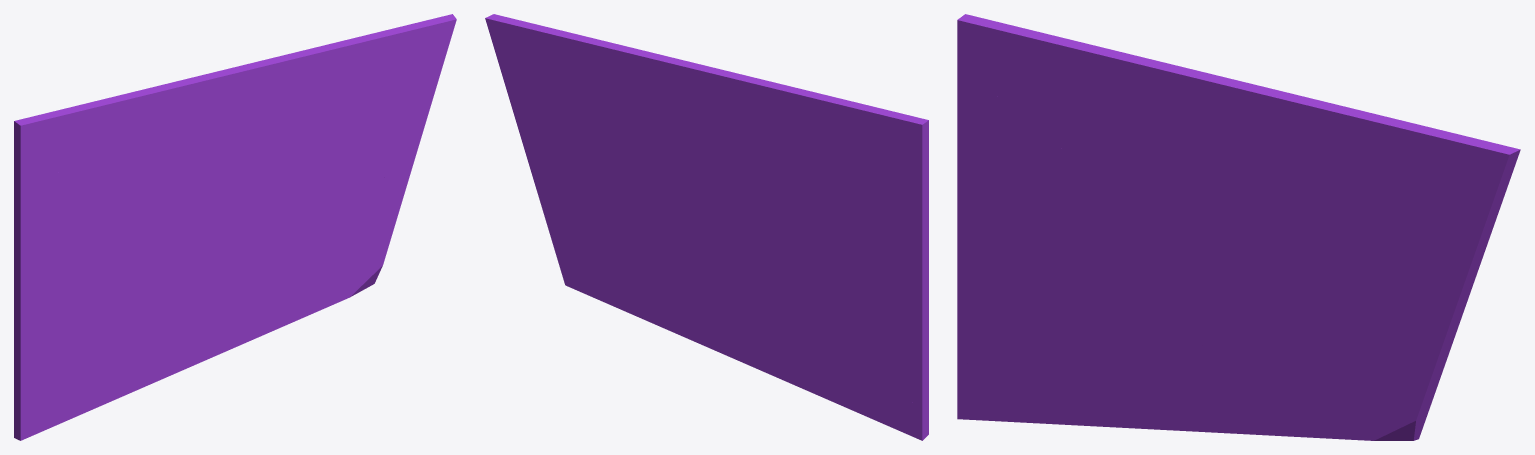
The model's file is Glass_96_3_chunks.fbx.
3 views of the same model, side by side, from view 1: azimuth 30°, elevation 25°; view 2: azimuth 150°, elevation 25°; view 3: azimuth 330°, elevation 25° (orthographic). The views are drawn at different scales.
Visible parts, largest first — view 1: Glass_96_3_5, Glass_96_3_1, Glass_96_3_0, Glass_96_3_14, Glass_96_3_4, Glass_96_3_7, Glass_96_3_10, Glass_96_3_3, Glass_96_3_12, Glass_96_3_6, Glass_96_3_8, Glass_96_3_9 (+6 smaller); view 2: Glass_96_3_7, Glass_96_3_14, Glass_96_3_6, Glass_96_3_3, Glass_96_3_9, Glass_96_3_12, Glass_96_3_2, Glass_96_3_0, Glass_96_3_1, Glass_96_3_4, Glass_96_3_5, Glass_96_3_10 (+6 smaller); view 3: Glass_96_3_5, Glass_96_3_1, Glass_96_3_0, Glass_96_3_7, Glass_96_3_4, Glass_96_3_14, Glass_96_3_10, Glass_96_3_3, Glass_96_3_6, Glass_96_3_8, Glass_96_3_12, Glass_96_3_9 (+6 smaller).
Boxes of the visible parts, left/top/right/bottom form: Glass_96_3_5: left=179, top=35, right=382, bottom=169; Glass_96_3_1: left=14, top=282, right=162, bottom=440; Glass_96_3_0: left=172, top=227, right=344, bottom=374; Glass_96_3_14: left=14, top=144, right=85, bottom=337; Glass_96_3_4: left=14, top=118, right=186, bottom=214; Glass_96_3_7: left=357, top=14, right=456, bottom=187; Glass_96_3_10: left=276, top=34, right=395, bottom=203; Glass_96_3_3: left=125, top=195, right=240, bottom=294; Glass_96_3_12: left=14, top=269, right=140, bottom=408; Glass_96_3_6: left=186, top=136, right=315, bottom=233; Glass_96_3_8: left=336, top=167, right=412, bottom=299; Glass_96_3_9: left=255, top=196, right=341, bottom=292; Glass_96_3_7: left=485, top=14, right=605, bottom=203; Glass_96_3_14: left=857, top=147, right=928, bottom=336; Glass_96_3_6: left=610, top=96, right=764, bottom=222; Glass_96_3_3: left=692, top=183, right=816, bottom=285; Glass_96_3_9: left=595, top=185, right=695, bottom=306; Glass_96_3_12: left=799, top=268, right=928, bottom=411; Glass_96_3_2: left=714, top=281, right=821, bottom=396; Glass_96_3_0: left=613, top=242, right=753, bottom=367; Glass_96_3_1: left=817, top=309, right=928, bottom=440; Glass_96_3_4: left=764, top=115, right=928, bottom=200; Glass_96_3_5: left=568, top=32, right=726, bottom=125; Glass_96_3_10: left=555, top=29, right=669, bottom=191; Glass_96_3_5: left=1158, top=92, right=1415, bottom=215; Glass_96_3_1: left=957, top=293, right=1136, bottom=428; Glass_96_3_0: left=1148, top=292, right=1366, bottom=440; Glass_96_3_7: left=1383, top=124, right=1520, bottom=324; Glass_96_3_4: left=957, top=14, right=1167, bottom=235; Glass_96_3_14: left=957, top=63, right=1038, bottom=287; Glass_96_3_10: left=1281, top=122, right=1431, bottom=316; Glass_96_3_3: left=1089, top=172, right=1235, bottom=350; Glass_96_3_6: left=1167, top=178, right=1331, bottom=293; Glass_96_3_8: left=1357, top=306, right=1458, bottom=440; Glass_96_3_12: left=957, top=242, right=1108, bottom=368; Glass_96_3_9: left=1254, top=267, right=1363, bottom=426.
Size of the model in its own units: 1061 by 732 by 27.2.
